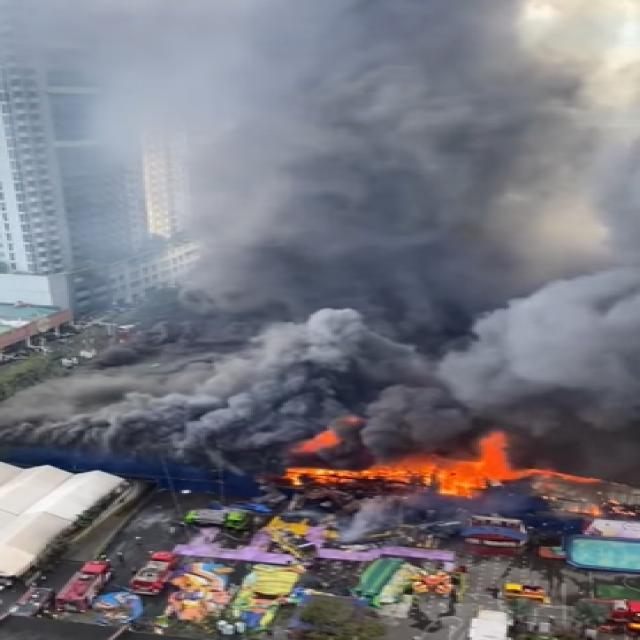Fire: (280, 430, 608, 500), (290, 414, 363, 456)
Smoke: (0, 266, 640, 480), (164, 0, 547, 333)
